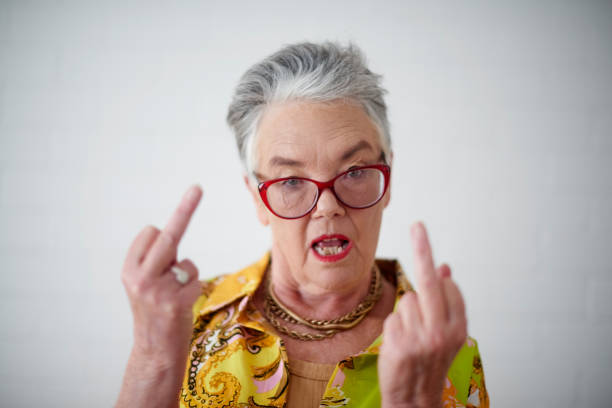insulting_gesture: (376, 220, 467, 408), (117, 179, 211, 357)
